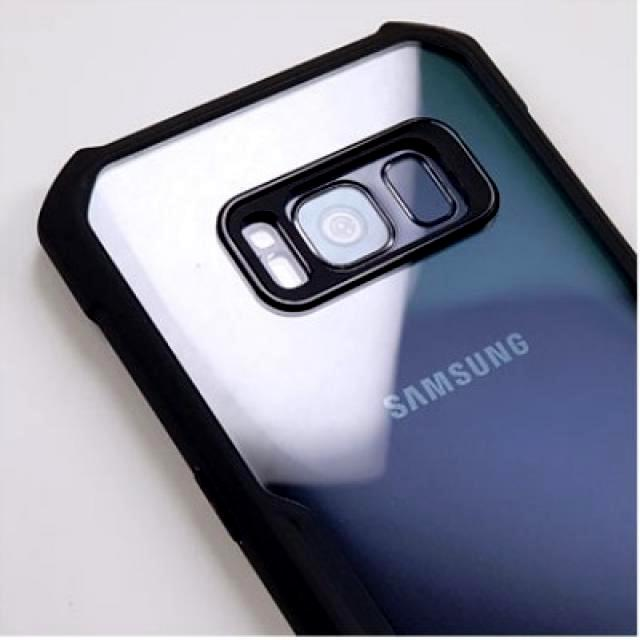lens_back: (282, 172, 400, 267)
phone: (46, 23, 632, 631)
